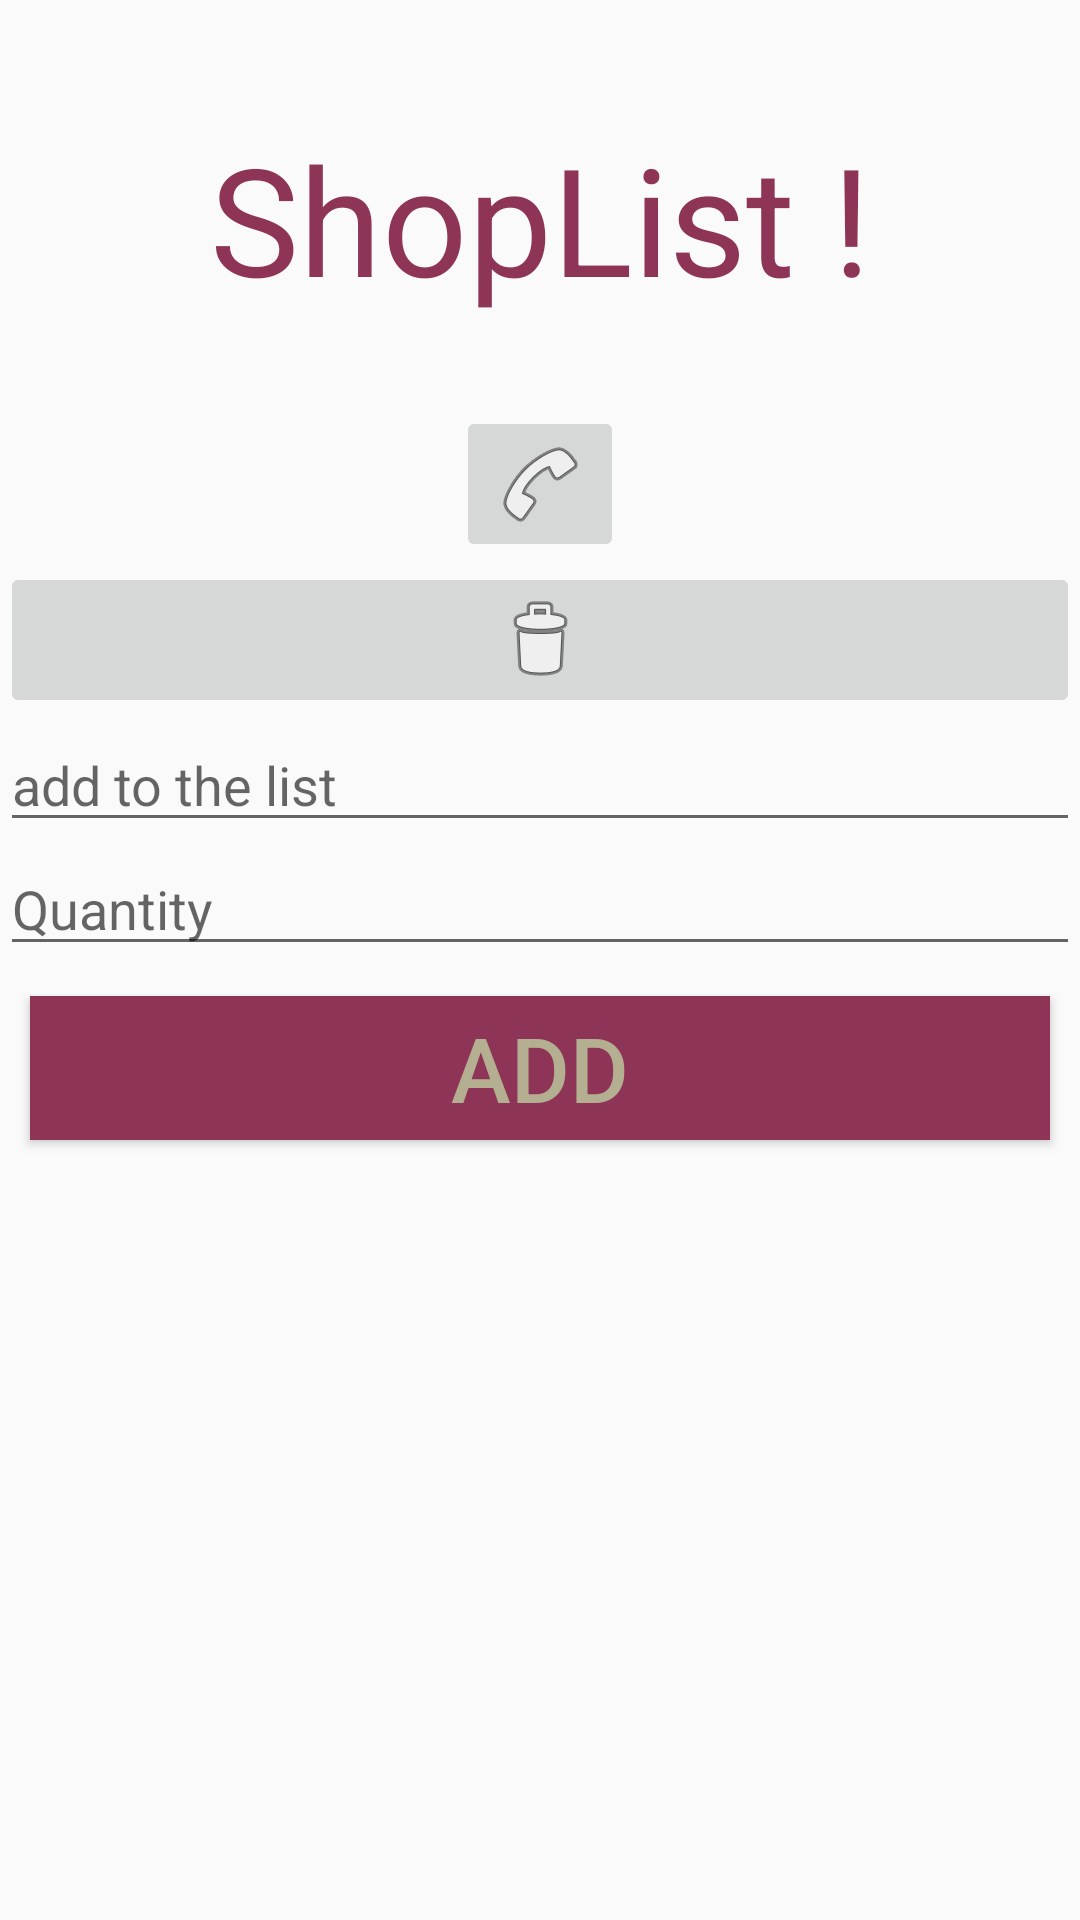

Icons on this 1080x1920 Android screen, each with the point to tap as (x,y):
call: (540,484)
